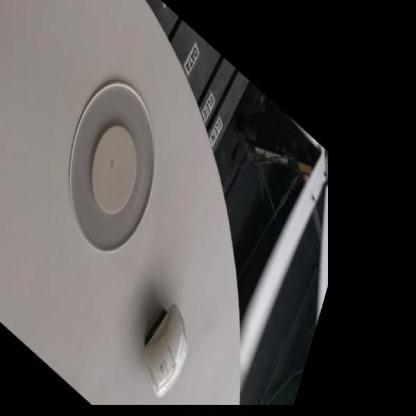light_off: (38, 14, 190, 303)
